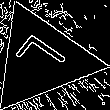L_SE: (9, 31, 74, 87)
